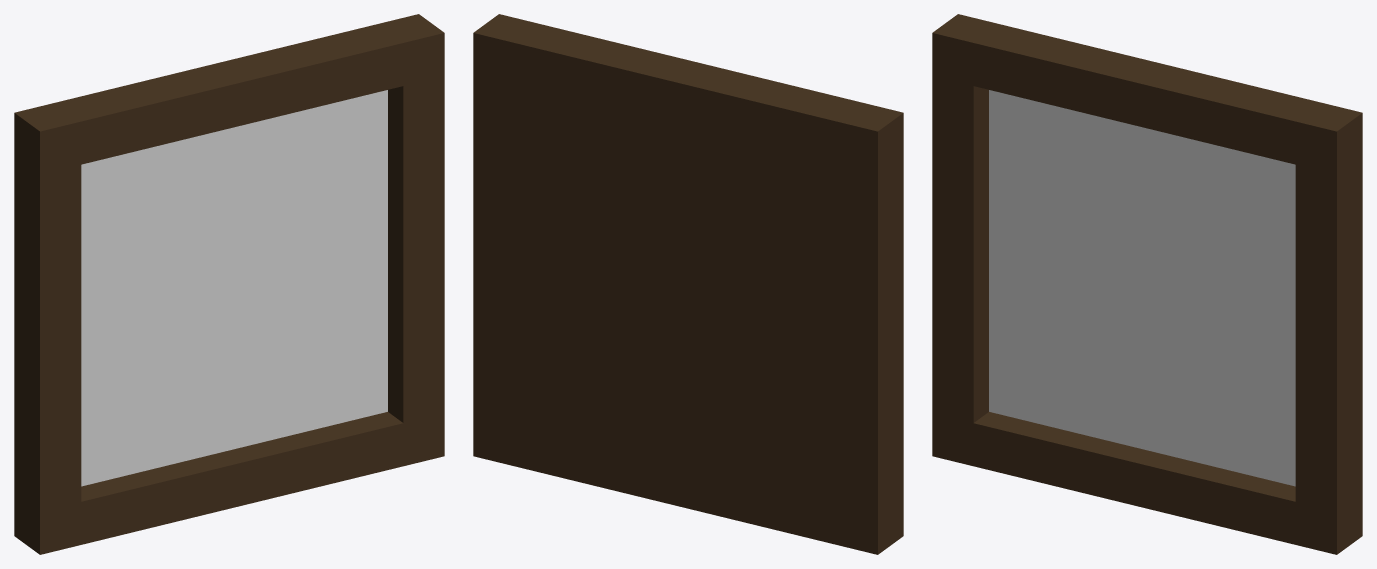
File: Marco.fbx
The picture shows the model from 3 angles, left to right: view 1: azimuth 30°, elevation 25°; view 2: azimuth 150°, elevation 25°; view 3: azimuth 330°, elevation 25°; orthographic projection.
Visible parts, largest first — view 1: Marco; view 2: Marco; view 3: Marco.
Boxes of the visible parts, left/top/right/bottom form: Marco: left=14, top=14, right=444, bottom=554; Marco: left=473, top=14, right=903, bottom=554; Marco: left=932, top=14, right=1362, bottom=554.
Size of the model in its own units: 200 by 200 by 22.09.
